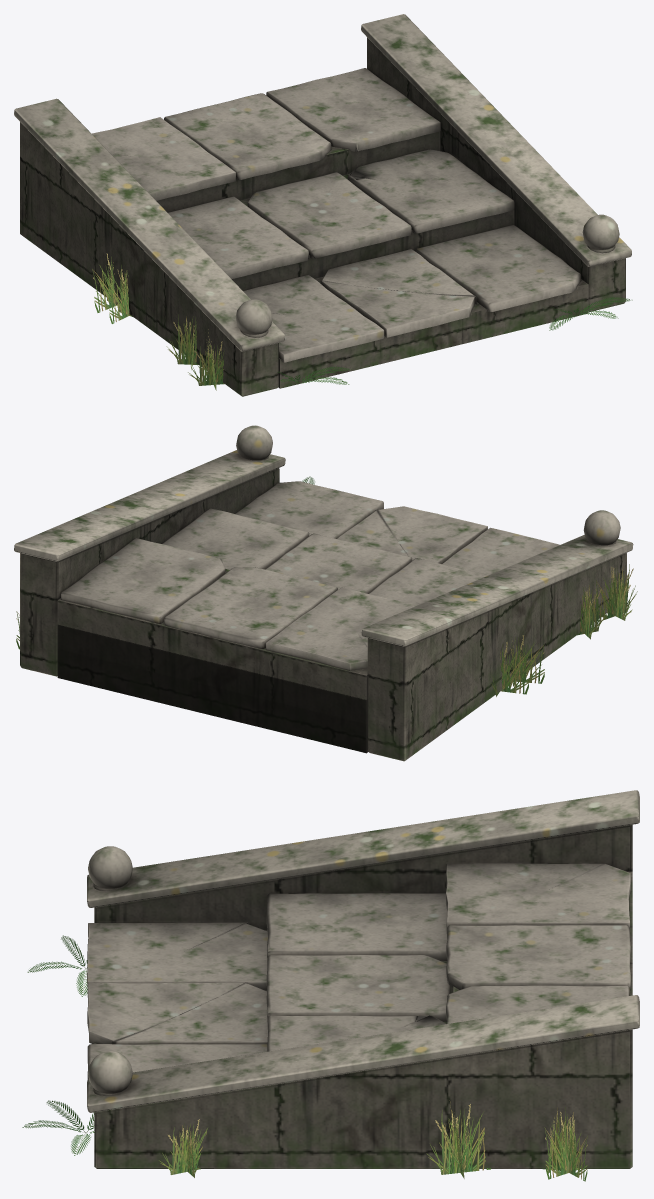
The model's file is GardenSteps.fbx.
The picture shows the model from 3 angles, top to bottom: view 1: azimuth 30°, elevation 25°; view 2: azimuth 150°, elevation 25°; view 3: azimuth 270°, elevation 25°; orthographic projection. The views are drawn at different scales.
Visible parts, largest first — view 1: GardenSteps_Main, GardenSteps_Leaves; view 2: GardenSteps_Main, GardenSteps_Leaves; view 3: GardenSteps_Main, GardenSteps_Leaves.
Boxes of the visible parts, box(x1,y1,x2,y2) form: GardenSteps_Main: box(14, 14, 631, 396); GardenSteps_Leaves: box(92, 253, 632, 390); GardenSteps_Main: box(14, 425, 633, 761); GardenSteps_Leaves: box(16, 476, 637, 696); GardenSteps_Main: box(87, 790, 639, 1168); GardenSteps_Leaves: box(22, 935, 587, 1181).
Bounding box in the file's own units: 1148 × 311 × 1163.
